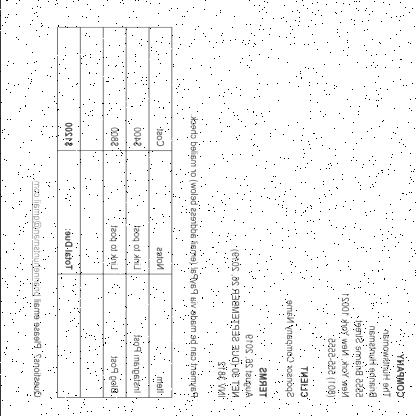Paragraph: (324, 293, 406, 399), (216, 248, 268, 400), (186, 114, 199, 398), (29, 178, 43, 400), (282, 298, 310, 398)
Table: (57, 27, 171, 398)
